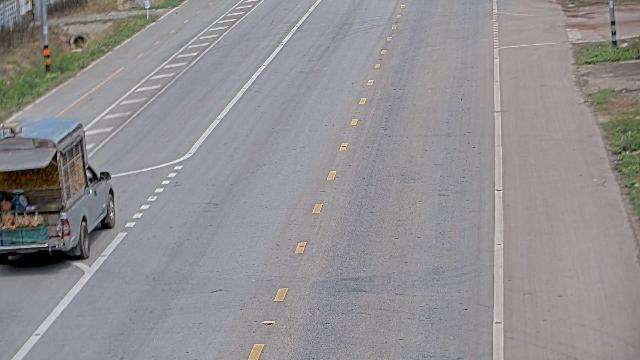pickup-truck: (0, 116, 116, 261)
